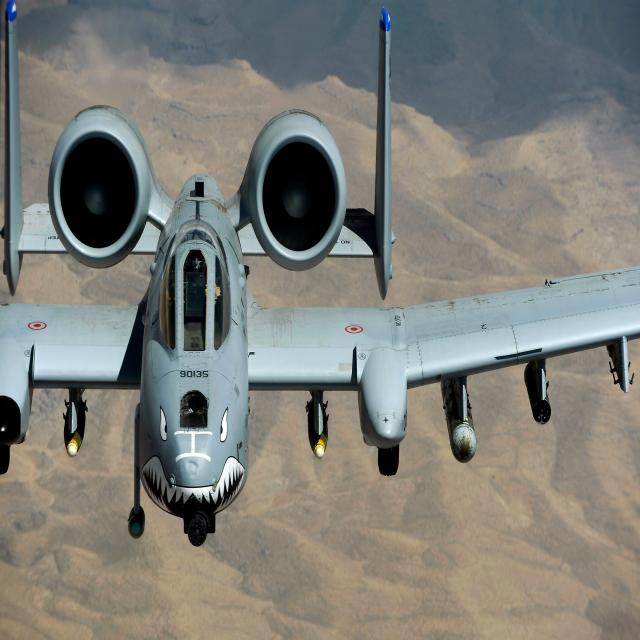A10: (1, 0, 634, 557)
